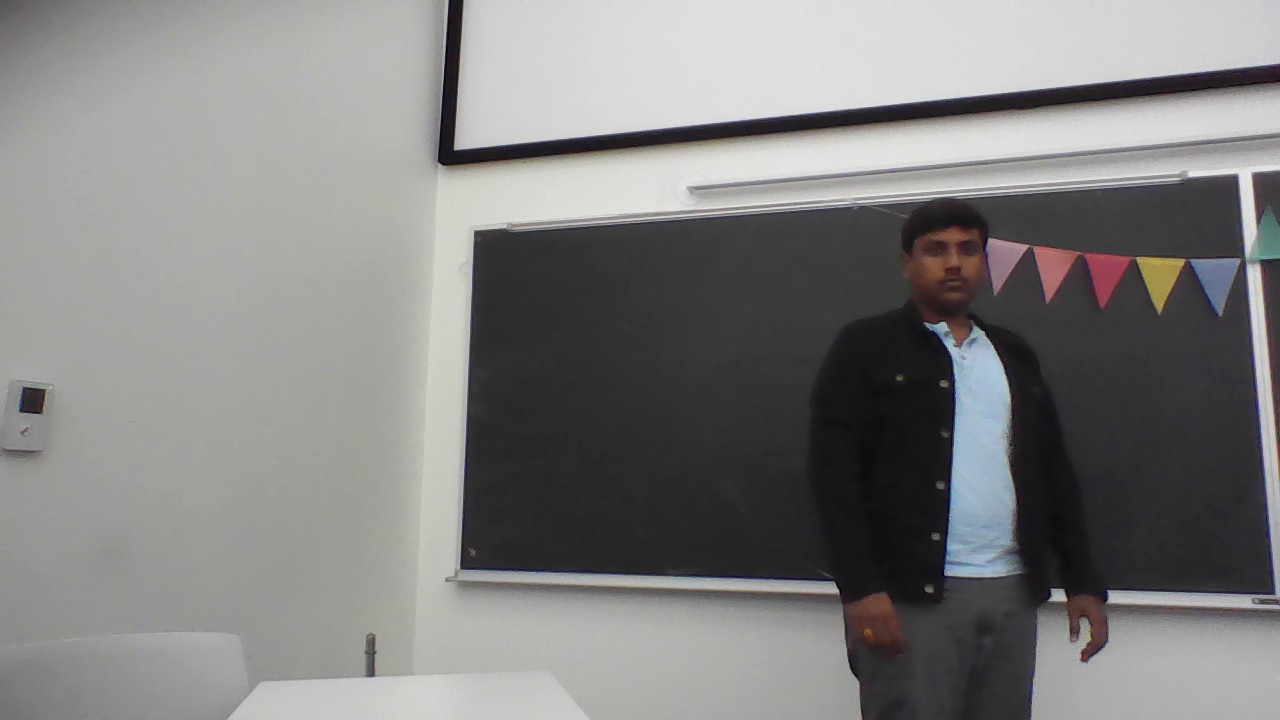height_frame: (791, 192, 1128, 720)
hip_frame: (861, 568, 1043, 584)
shoulder_frame: (844, 324, 1032, 354)
waist_frame: (866, 484, 1052, 511)
